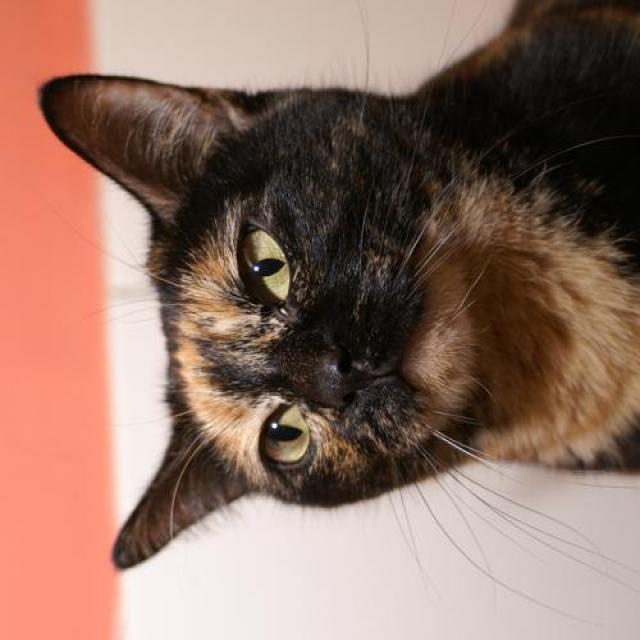Cats: (37, 0, 638, 621)
